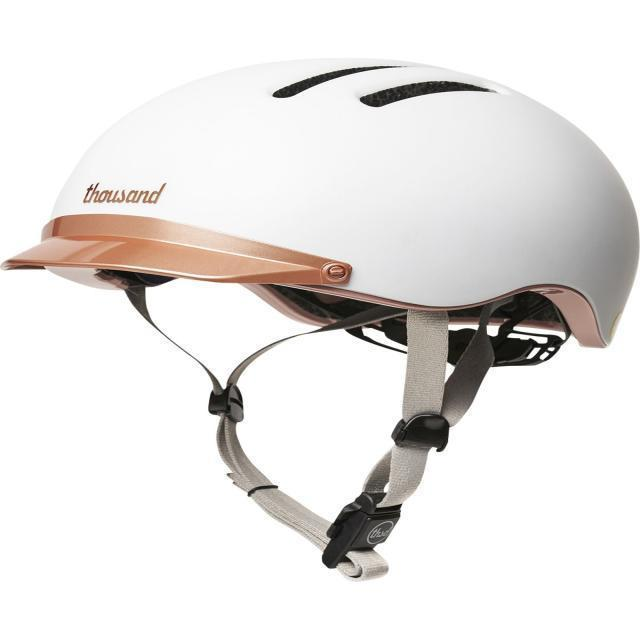helmet: (0, 55, 639, 366)
